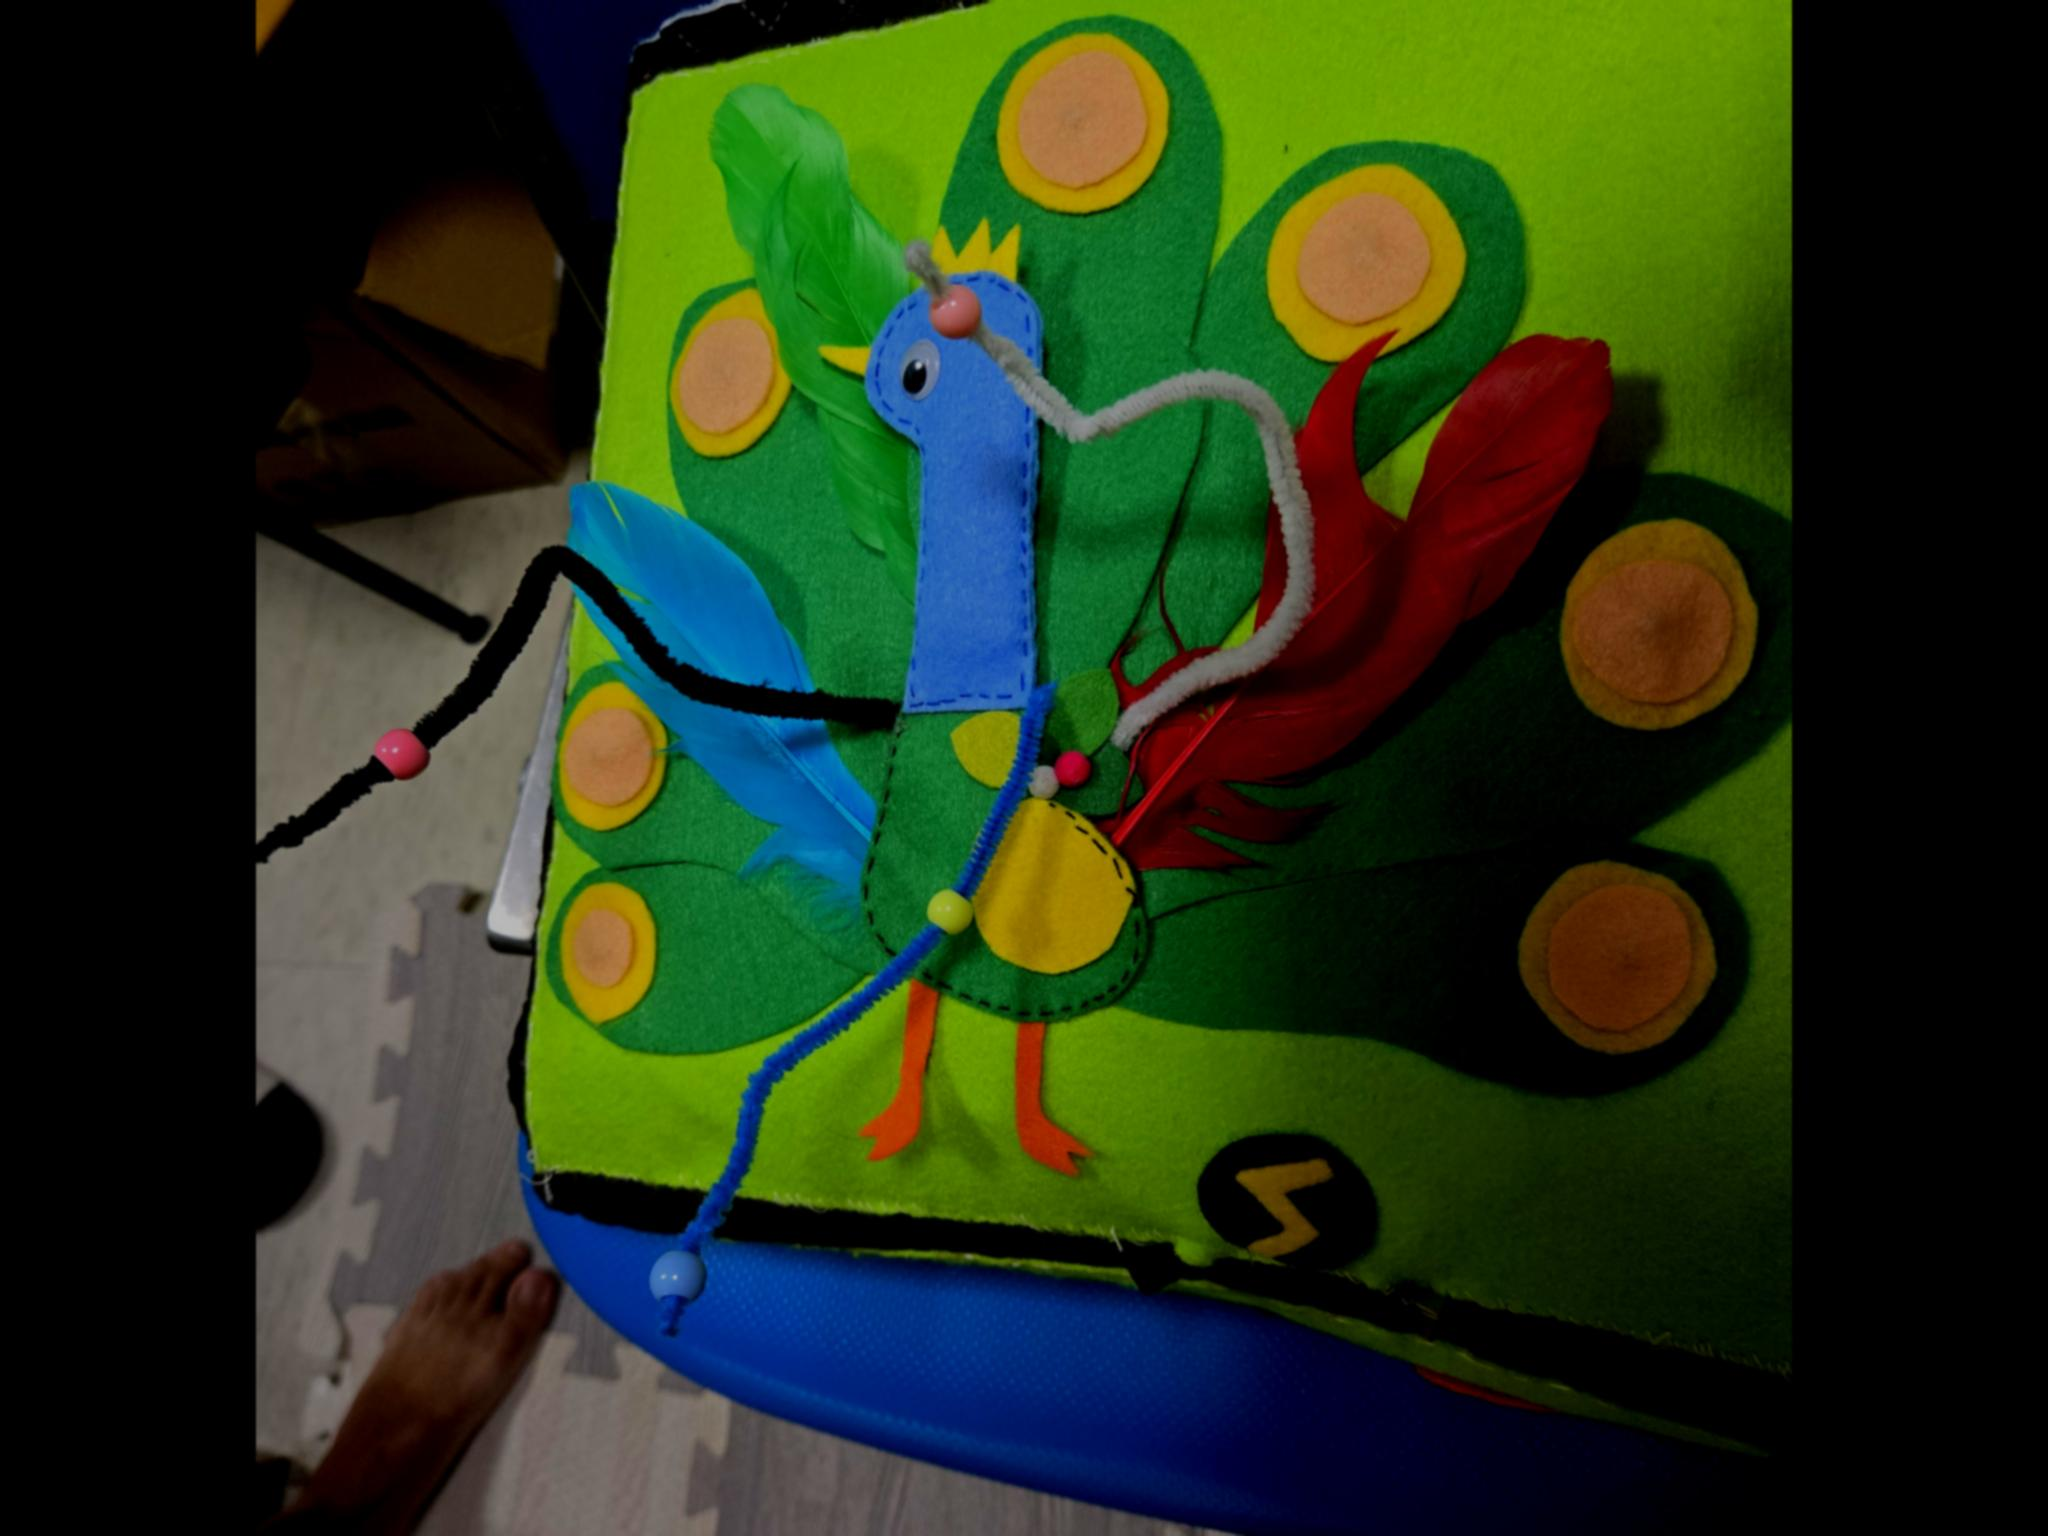bead: (631, 1233, 721, 1304), (918, 273, 1000, 347), (360, 718, 435, 786), (918, 878, 982, 942)
